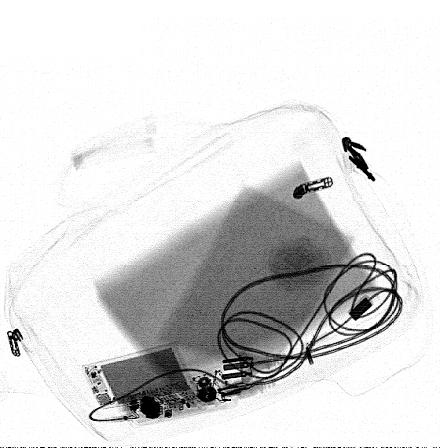Powerbank: (81, 341, 194, 410)
